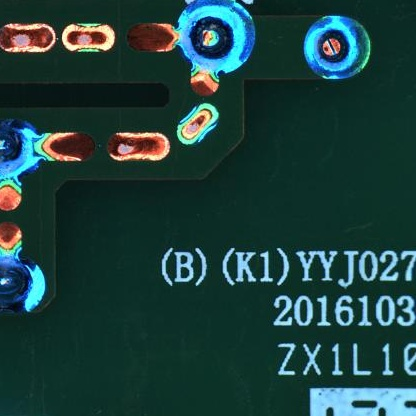spot: (176, 1, 256, 71), (306, 15, 371, 79)
